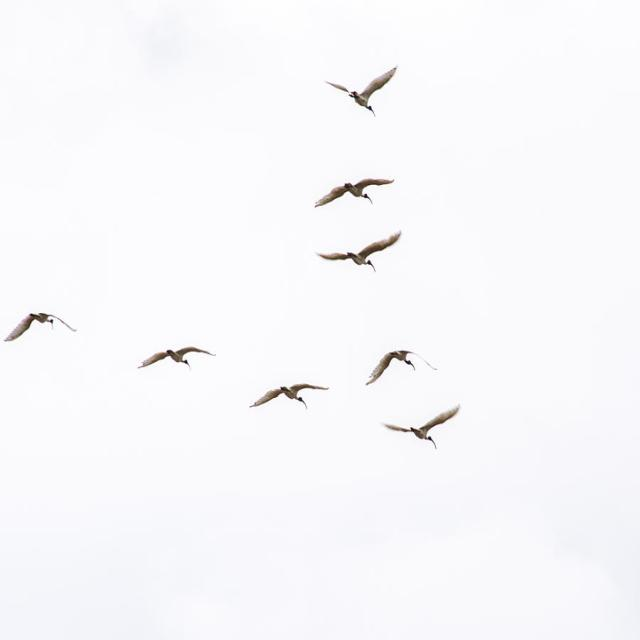bird: (326, 62, 403, 116), (317, 233, 405, 270), (384, 408, 464, 446), (5, 310, 80, 349), (318, 175, 398, 210), (252, 382, 332, 415), (140, 346, 217, 380), (368, 350, 420, 390)
